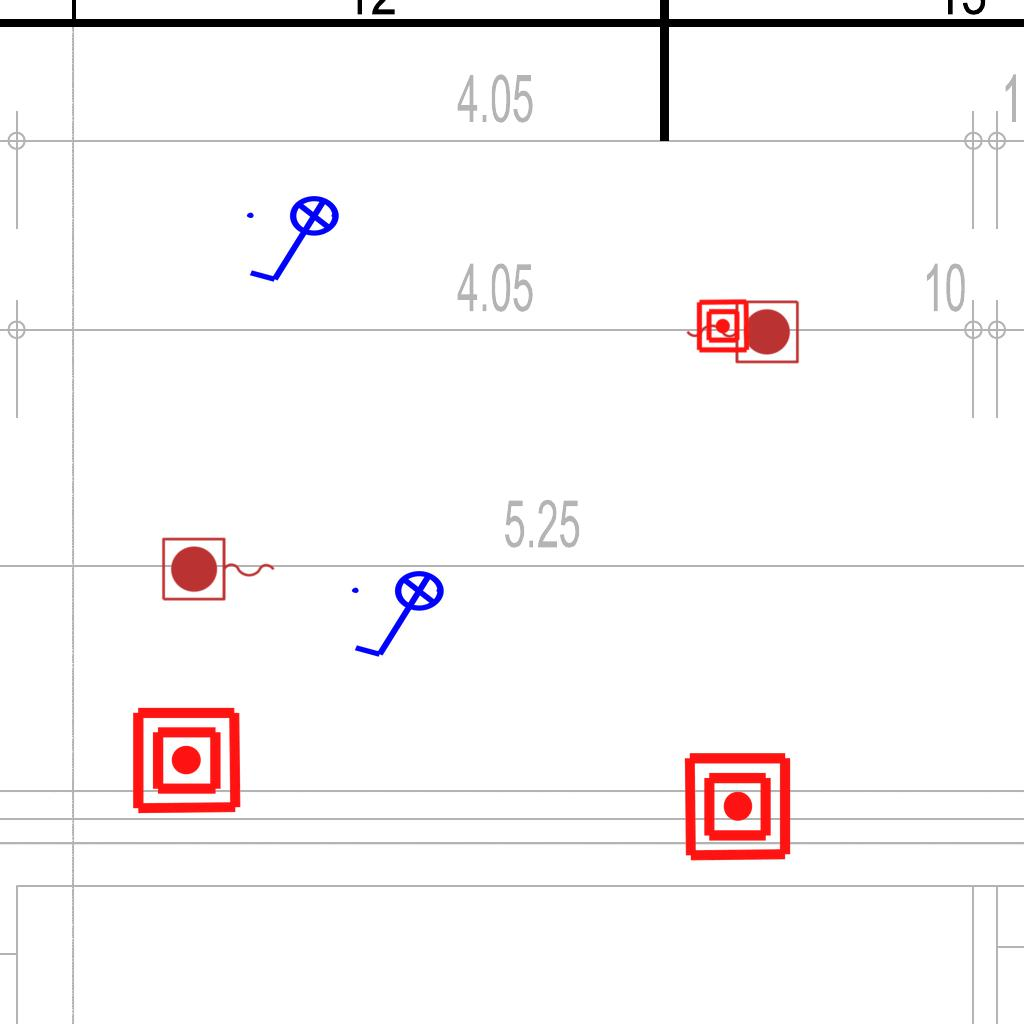Ausschalter_beleuchtet: (346, 569, 458, 665), (241, 194, 353, 290)
NAM-Nichtautomatischer_Melder: (681, 750, 794, 863), (130, 704, 243, 817), (695, 298, 751, 354)
Zugtaster: (158, 534, 280, 606), (681, 295, 803, 367)
